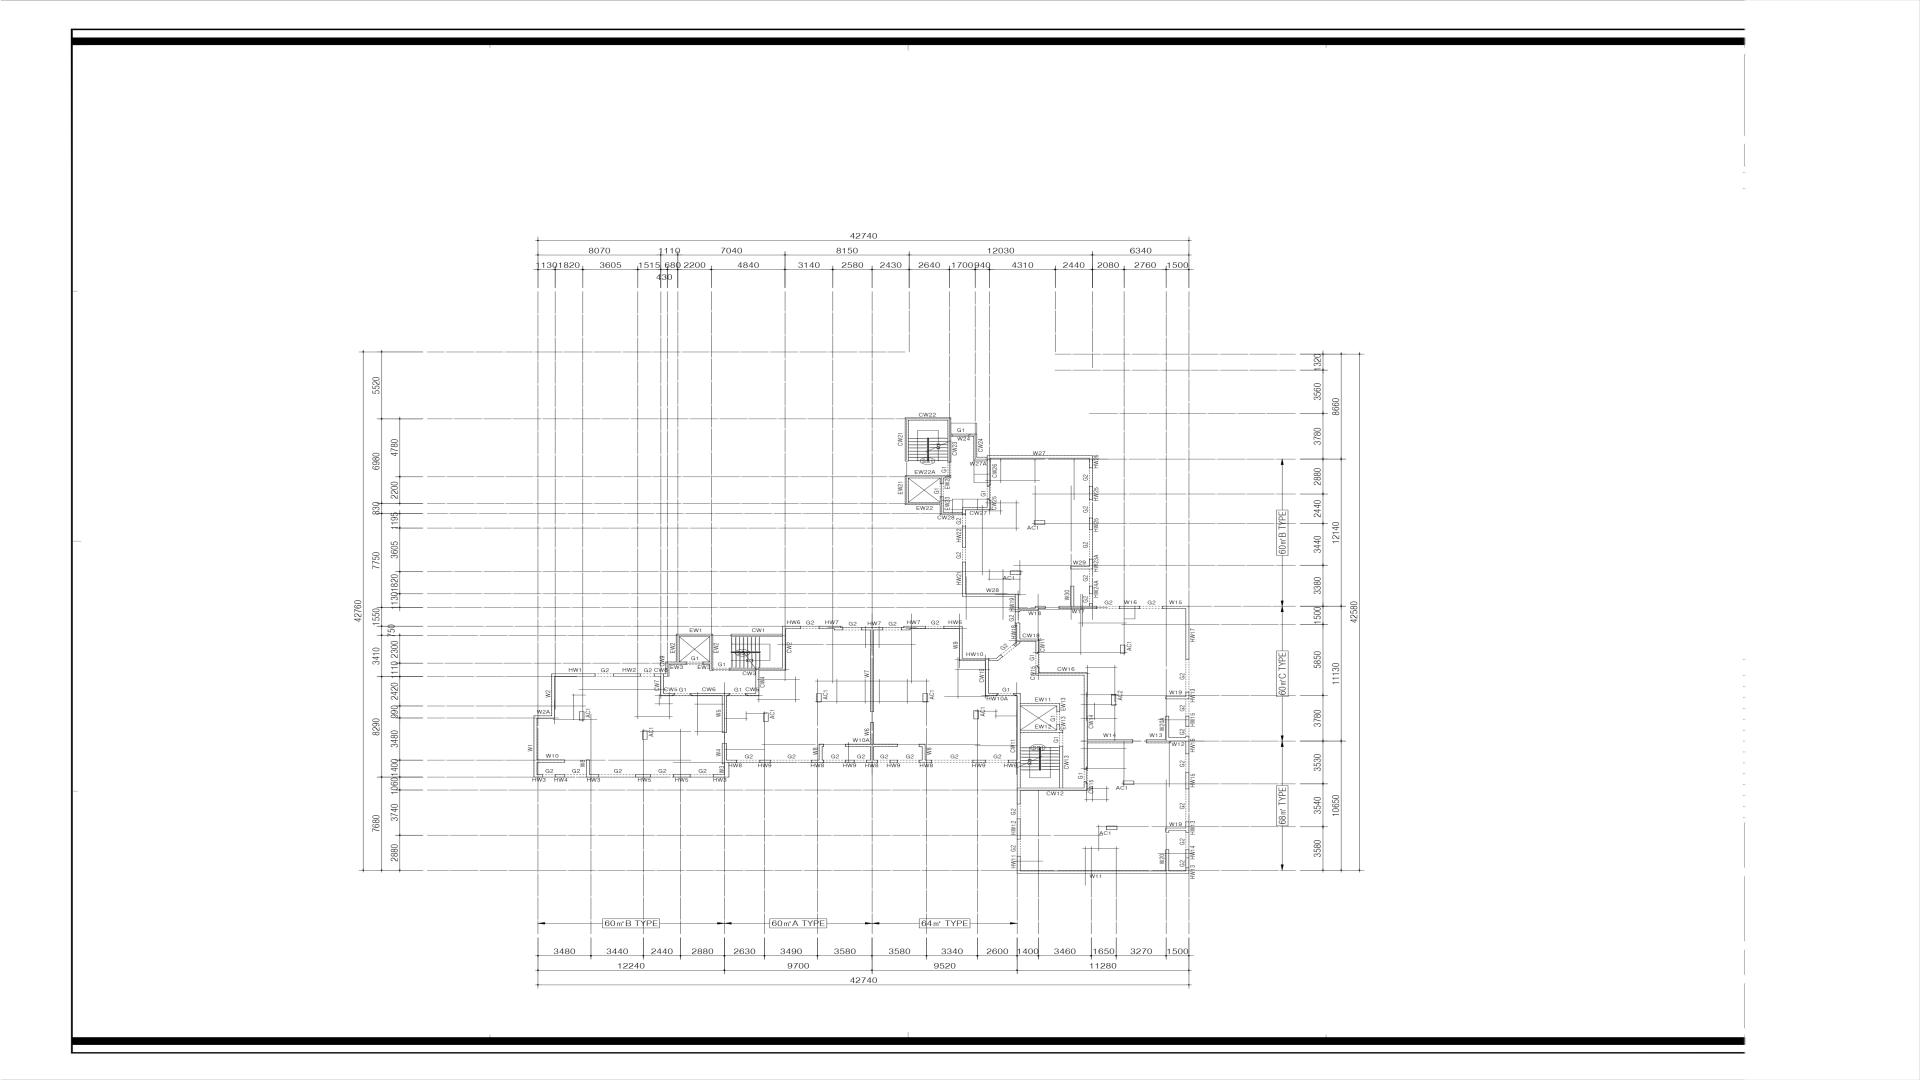wall: (1163, 606, 1189, 659), (782, 626, 800, 671), (1014, 693, 1021, 788), (1017, 623, 1038, 654), (908, 497, 944, 515), (533, 718, 543, 777), (1015, 594, 1045, 612), (1017, 870, 1186, 873), (1166, 716, 1186, 741), (1084, 672, 1088, 788), (654, 662, 686, 676), (1035, 666, 1084, 675), (905, 475, 951, 484), (1020, 724, 1063, 733), (944, 507, 990, 515), (745, 671, 759, 696), (703, 637, 713, 671), (870, 630, 874, 712), (722, 743, 737, 764), (1021, 703, 1060, 711), (990, 455, 1092, 458), (660, 676, 673, 696), (919, 744, 932, 763), (1070, 559, 1093, 569), (1166, 822, 1189, 832), (812, 744, 824, 763), (586, 760, 599, 777), (713, 763, 728, 777), (1020, 788, 1088, 791), (722, 696, 727, 733), (1088, 739, 1133, 743), (1165, 692, 1189, 699), (1059, 746, 1063, 788), (551, 676, 555, 718), (962, 594, 1015, 597), (730, 668, 782, 671), (845, 744, 897, 747), (731, 634, 782, 637), (985, 661, 989, 696), (905, 417, 951, 420), (962, 562, 966, 594), (959, 629, 963, 661), (948, 420, 951, 462), (905, 420, 908, 461), (690, 693, 730, 696), (1059, 606, 1096, 609), (679, 634, 713, 637), (1146, 739, 1171, 743), (973, 437, 977, 461), (819, 626, 843, 630), (901, 626, 925, 630), (987, 456, 990, 486), (551, 674, 595, 676), (870, 722, 874, 744), (1165, 849, 1169, 870), (962, 526, 966, 547), (989, 655, 1003, 661), (537, 760, 565, 763), (676, 634, 679, 662), (905, 478, 908, 505), (1017, 819, 1021, 839), (1070, 586, 1074, 606), (963, 658, 989, 661), (951, 434, 977, 437), (1186, 849, 1189, 873), (861, 627, 883, 630), (1119, 606, 1140, 609), (1017, 856, 1021, 871), (944, 626, 963, 629), (1089, 486, 1093, 500), (613, 674, 641, 676), (1111, 694, 1116, 705), (1034, 520, 1045, 525), (1186, 736, 1189, 754), (533, 715, 551, 718), (870, 747, 874, 760), (1186, 772, 1189, 789), (673, 774, 690, 777), (1089, 518, 1093, 530), (1017, 788, 1020, 804), (635, 774, 651, 777), (1120, 645, 1125, 654), (974, 710, 979, 719), (763, 713, 768, 722), (923, 693, 928, 702), (1106, 826, 1117, 830), (1123, 781, 1134, 785), (1010, 571, 1021, 575), (1089, 458, 1093, 468), (977, 457, 987, 461), (579, 712, 584, 720), (642, 731, 647, 739), (973, 760, 985, 763), (866, 760, 878, 763), (817, 693, 821, 702), (1186, 716, 1189, 727), (760, 760, 771, 763), (1089, 586, 1093, 594), (845, 760, 855, 763), (555, 774, 565, 777), (1013, 642, 1020, 646), (989, 693, 998, 696), (1008, 760, 1017, 763), (987, 499, 990, 507), (890, 760, 898, 763)
